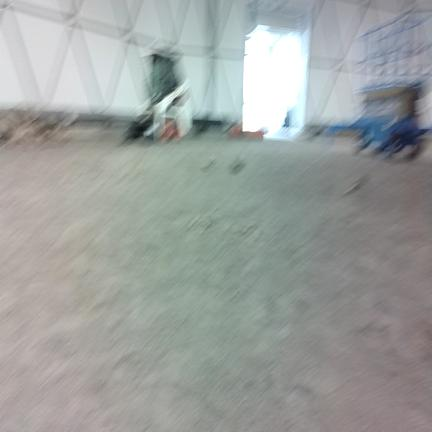Rock: (0, 113, 21, 143), (344, 175, 366, 194), (188, 217, 213, 231), (229, 157, 245, 174), (202, 158, 215, 171)
